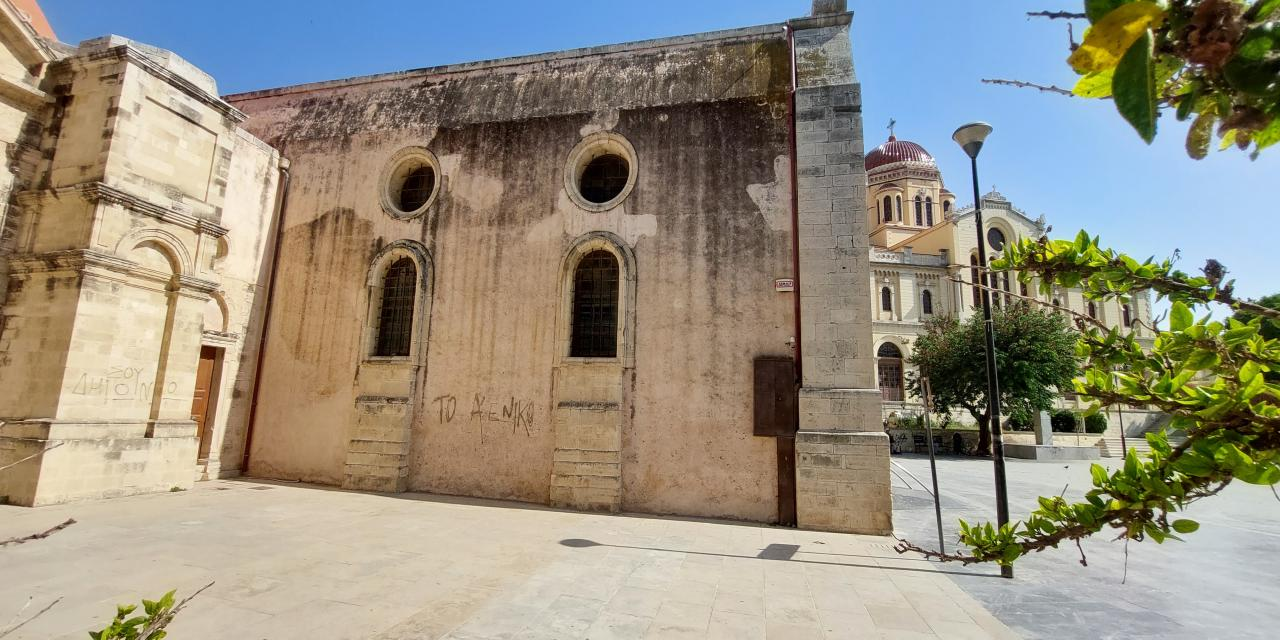Agia Aikaterini: (1, 1, 897, 539)
